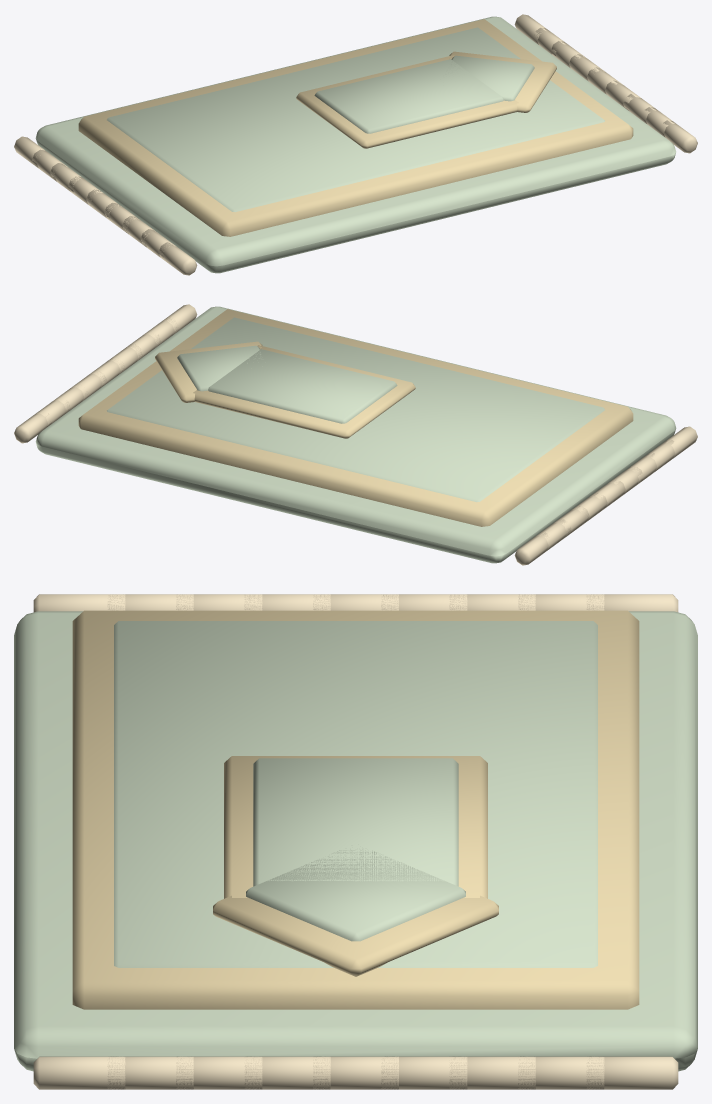
Rendered from prayer.glb.
3 views of the same model, one above another, from view 1: azimuth 30°, elevation 25°; view 2: azimuth 150°, elevation 25°; view 3: azimuth 270°, elevation 25° (orthographic). The views are drawn at different scales.
Parts seen in each view (by area): view 1: prayer; view 2: prayer; view 3: prayer.
Boxes of the visible parts, <box> form: prayer: <box>14,14,697,275</box>; prayer: <box>14,304,697,565</box>; prayer: <box>14,594,697,1089</box>.
Bounding box in the file's own units: 1.16 × 0.106 × 0.7.
